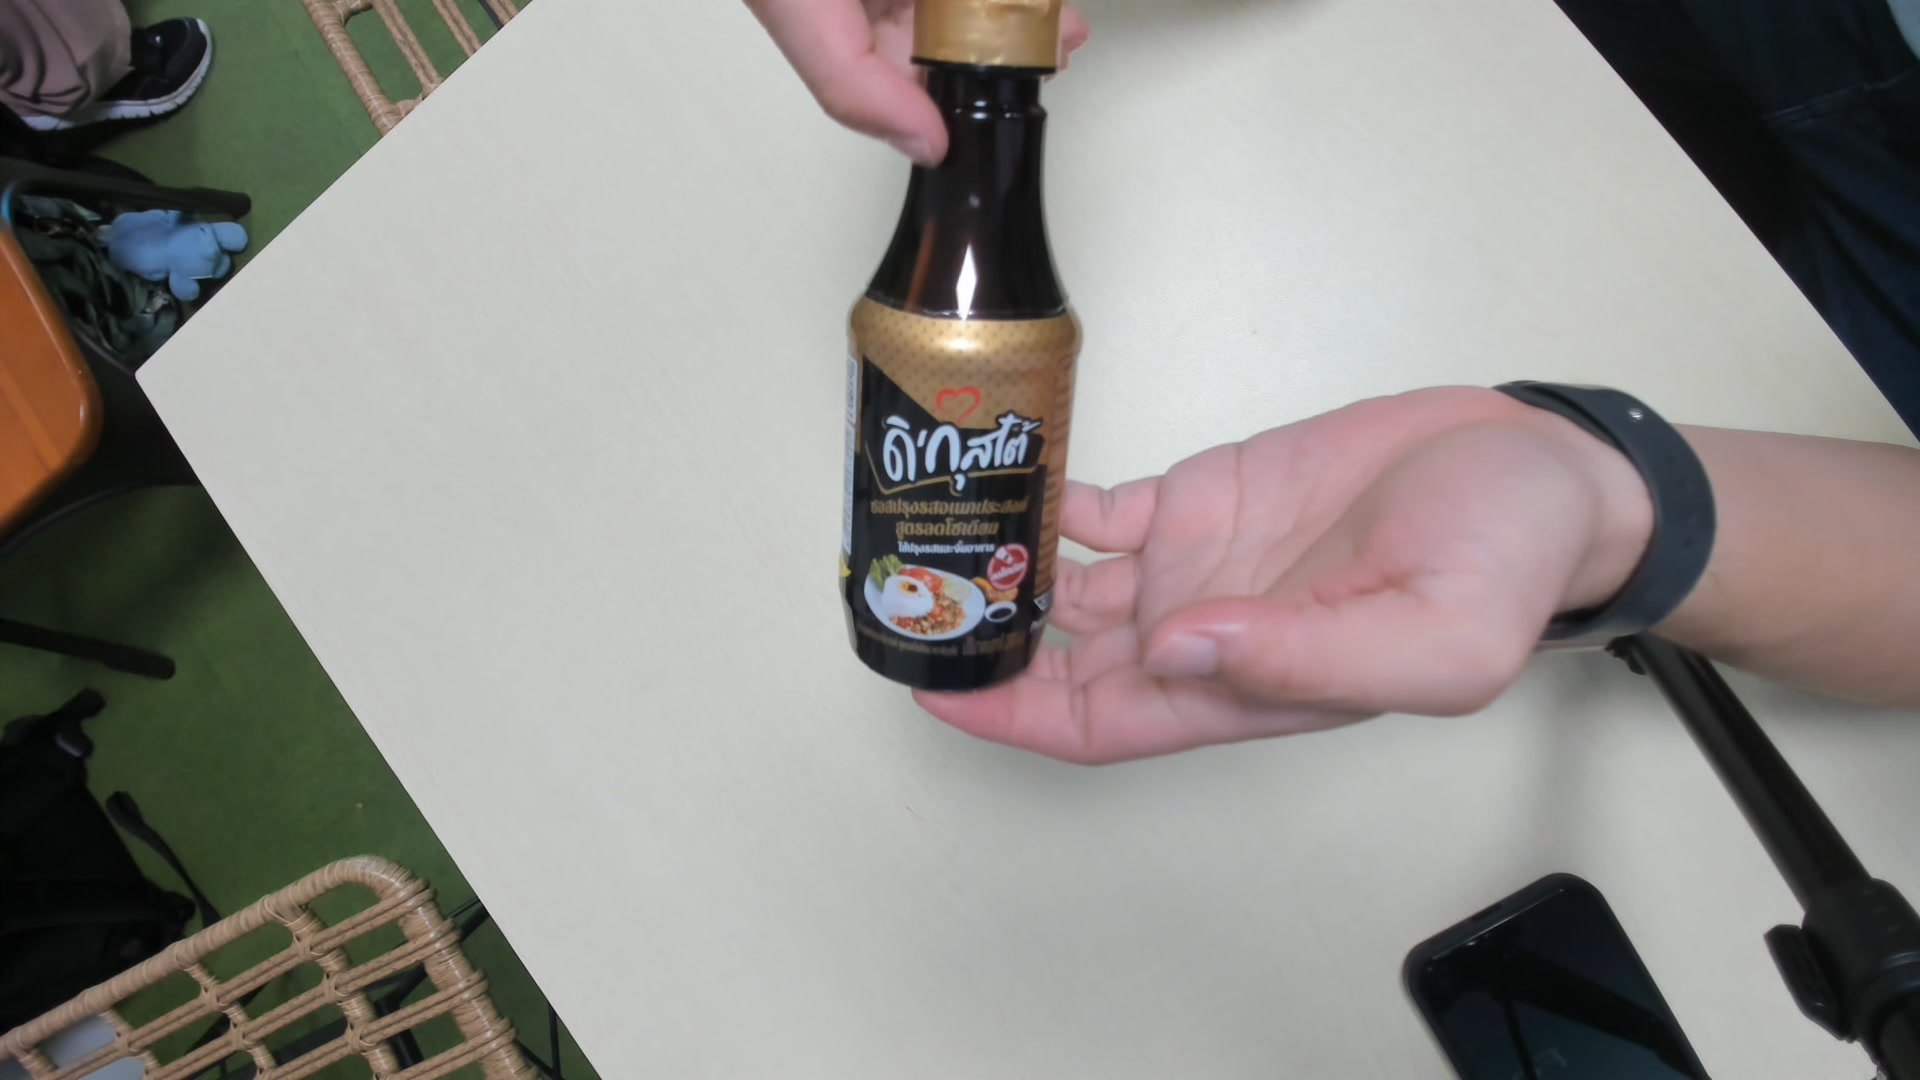OtherSauceDressing_200-299g_NonHalal_NonHealthy: (847, 7, 1077, 688)
